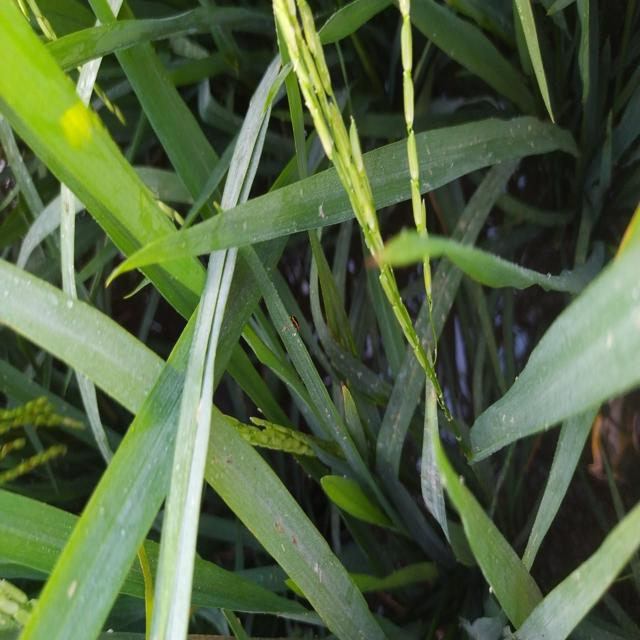insects: (260, 518, 308, 551)
